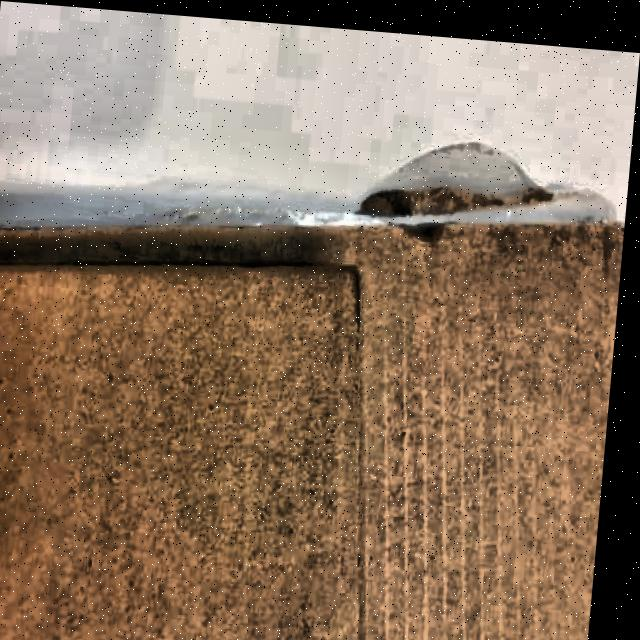cardboard: (0, 163, 626, 640)
